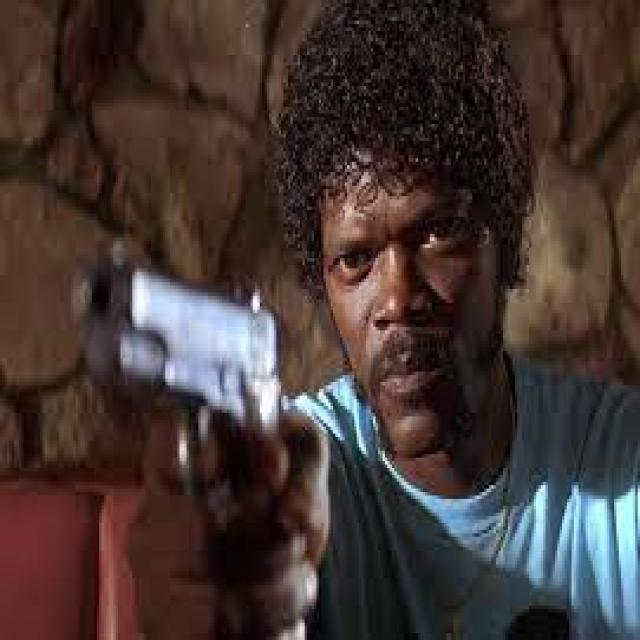weapons: (51, 222, 310, 586)
